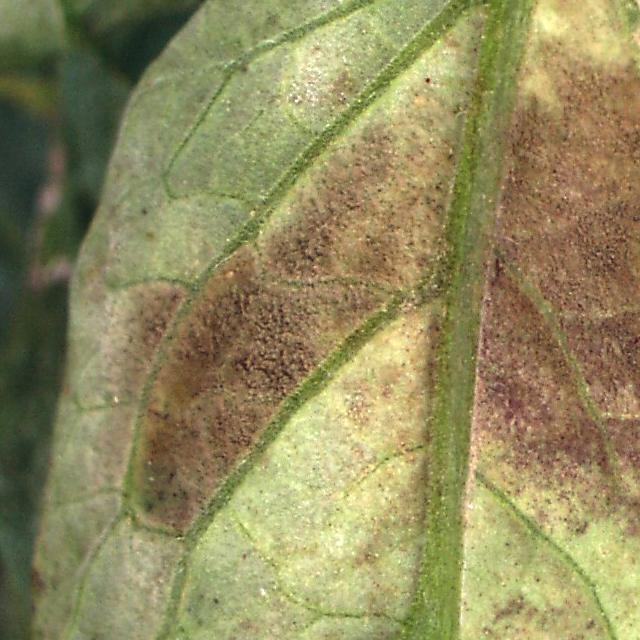Tomato mold leaf: (0, 0, 640, 640), (0, 0, 433, 162)
